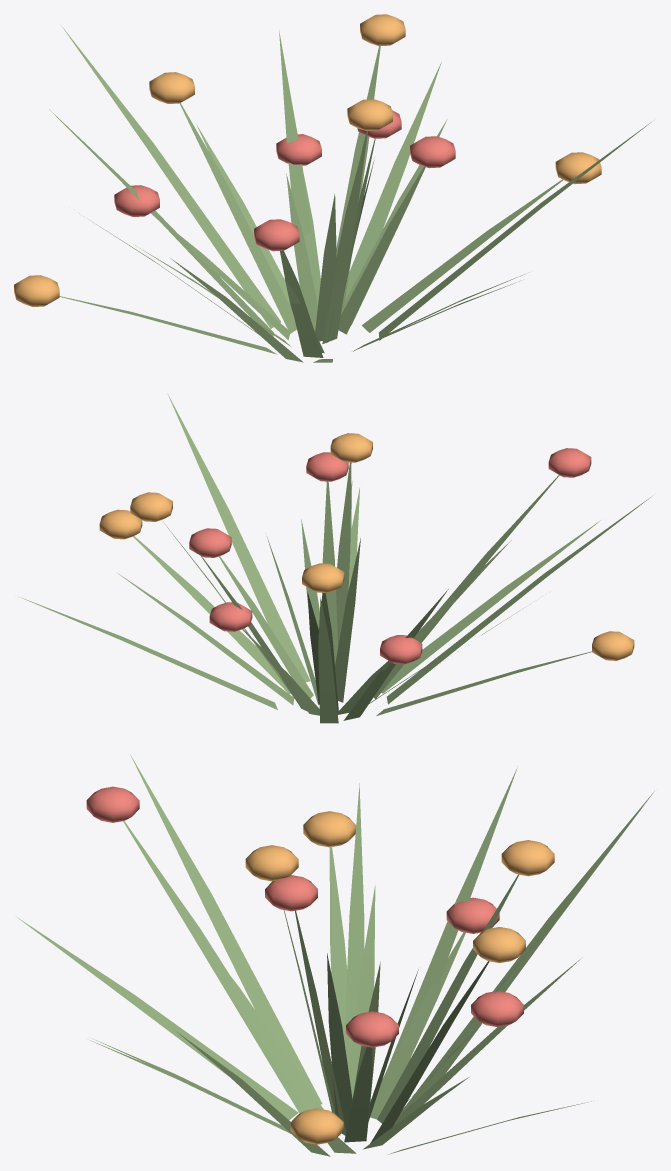
The model's file is wildflower_tuft.glb.
3 renders of one model, top to bottom at view 1: azimuth 30°, elevation 25°; view 2: azimuth 150°, elevation 25°; view 3: azimuth 270°, elevation 25°, orthographic. The views are drawn at different scales.
Parts seen in each view (by area): view 1: wildflower_tuft; view 2: wildflower_tuft; view 3: wildflower_tuft.
Boxes of the visible parts, left/top/right/bottom form: wildflower_tuft: left=14, top=14, right=651, bottom=362; wildflower_tuft: left=18, top=393, right=651, bottom=723; wildflower_tuft: left=17, top=754, right=654, bottom=1156.
Size of the model in its own units: 1.12 by 0.4797 by 0.9691.
